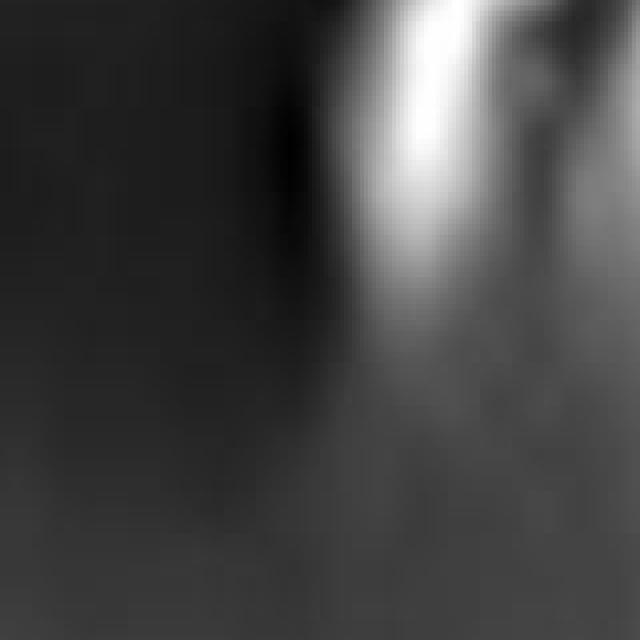person: (325, 1, 529, 342), (565, 1, 640, 390)
